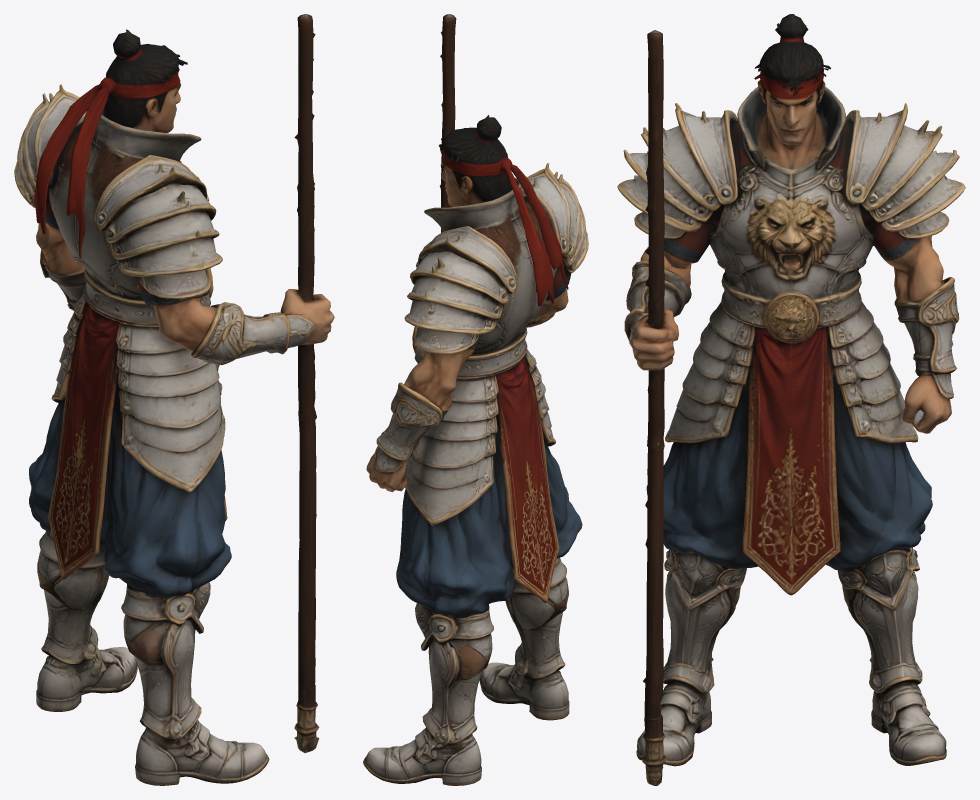
The model's file is vanguard2_T4-tripo.glb.
3 renders of one model, left to right at view 1: azimuth 30°, elevation 25°; view 2: azimuth 150°, elevation 25°; view 3: azimuth 270°, elevation 25°, orthographic. The views are drawn at different scales.
Parts seen in each view (by area): view 1: tripo_node_adab6d54-b73a-441e-b99a-259b6d64a7eb; view 2: tripo_node_adab6d54-b73a-441e-b99a-259b6d64a7eb; view 3: tripo_node_adab6d54-b73a-441e-b99a-259b6d64a7eb.
Boxes of the visible parts, x1,y1,x2,y2 form: tripo_node_adab6d54-b73a-441e-b99a-259b6d64a7eb: [14, 14, 334, 785]; tripo_node_adab6d54-b73a-441e-b99a-259b6d64a7eb: [363, 14, 588, 785]; tripo_node_adab6d54-b73a-441e-b99a-259b6d64a7eb: [617, 14, 965, 785].
Size of the model in its own units: 0.3 by 1 by 0.4148.
1 material, 1 textured.
